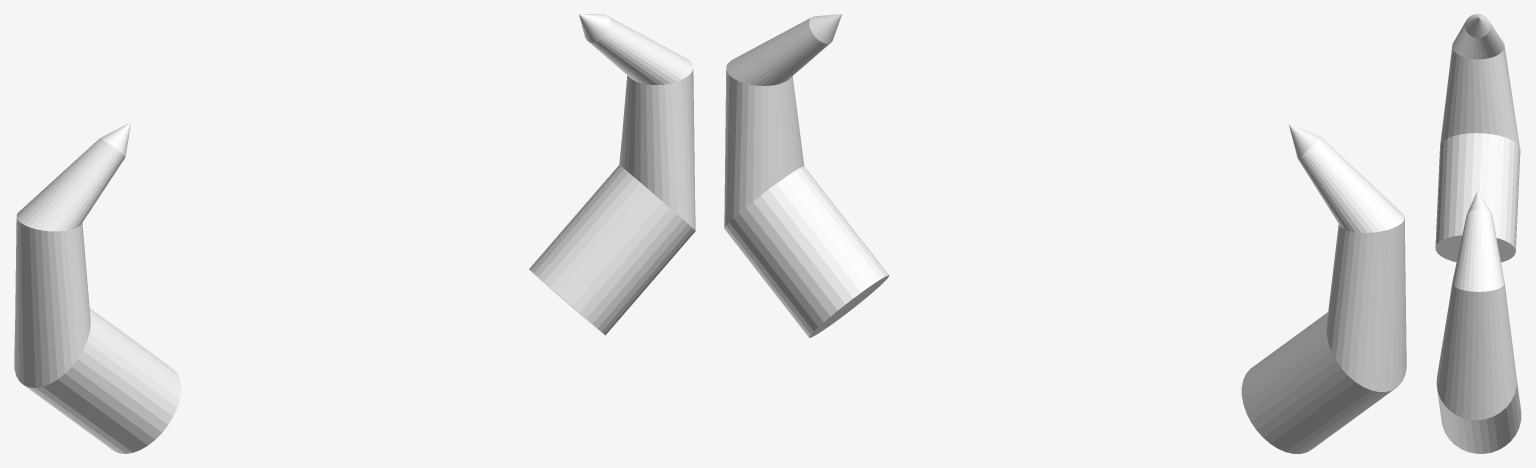
Rendered from horns.obj.
3 views of the same model, side by side, from view 1: azimuth 30°, elevation 25°; view 2: azimuth 150°, elevation 25°; view 3: azimuth 270°, elevation 25° (orthographic). The views are drawn at different scales.
Parts seen in each view (by area): view 1: Cylinder.001, Cylinder; view 2: Cylinder.001, Cylinder; view 3: Cylinder.001, Cylinder.
Boxes of the visible parts, box(x1,y1,x2,y2) form: Cylinder.001: box(14, 122, 180, 453); Cylinder: box(529, 14, 695, 335); Cylinder.001: box(1241, 124, 1406, 453); Cylinder: box(724, 14, 889, 337); Cylinder.001: box(1435, 14, 1520, 262); Cylinder: box(1436, 191, 1521, 453).
Bounding box in the file's own units: 9.89 × 4.55 × 1.39.
